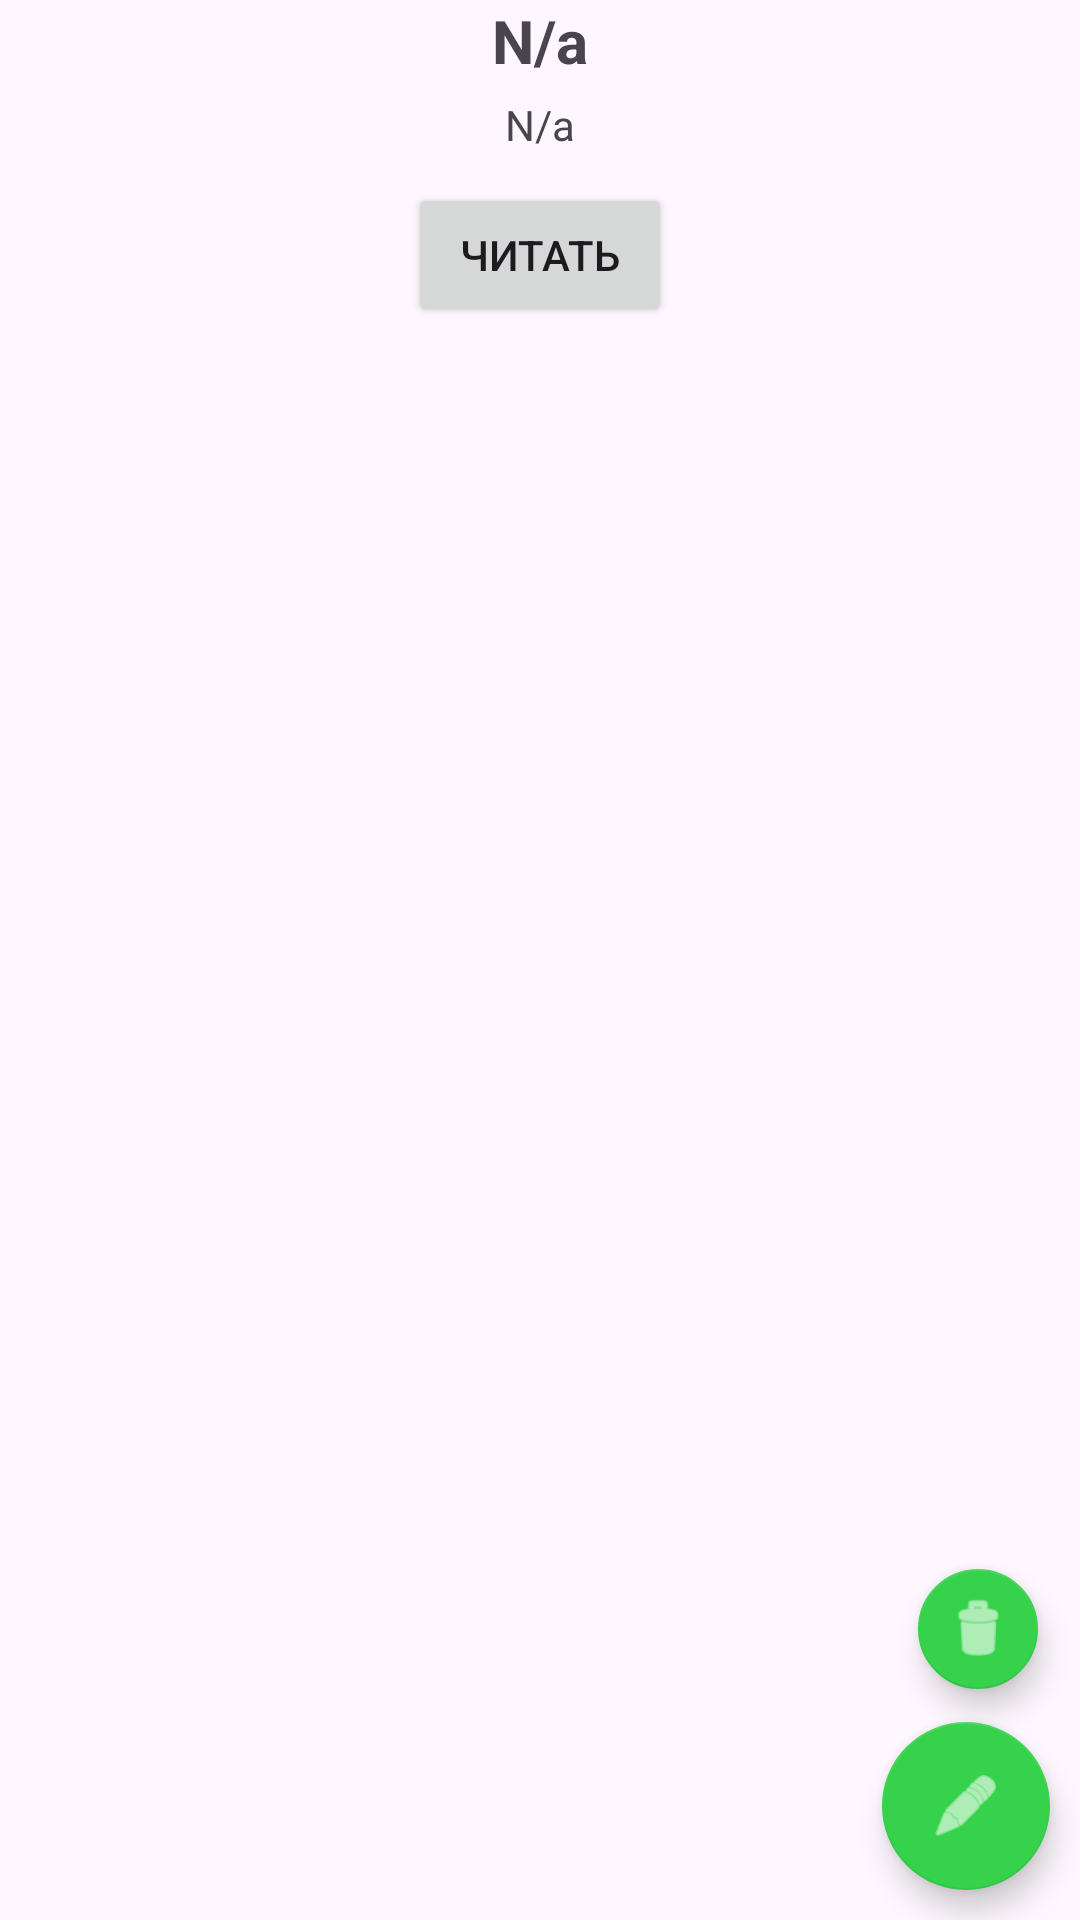

Locate icon controls on the screen. Image size 1080×1920, boxes as (x1,y1,x2,y2).
delete: (918,1569,1041,1701)
edit: (882,1722,1050,1890)
